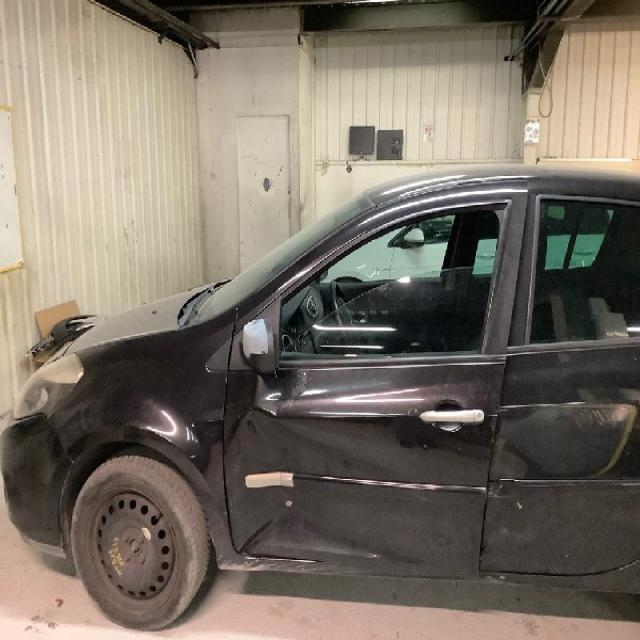porte-avant: (224, 179, 531, 576)
